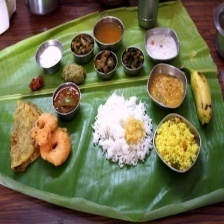roti: (10, 98, 41, 172)
